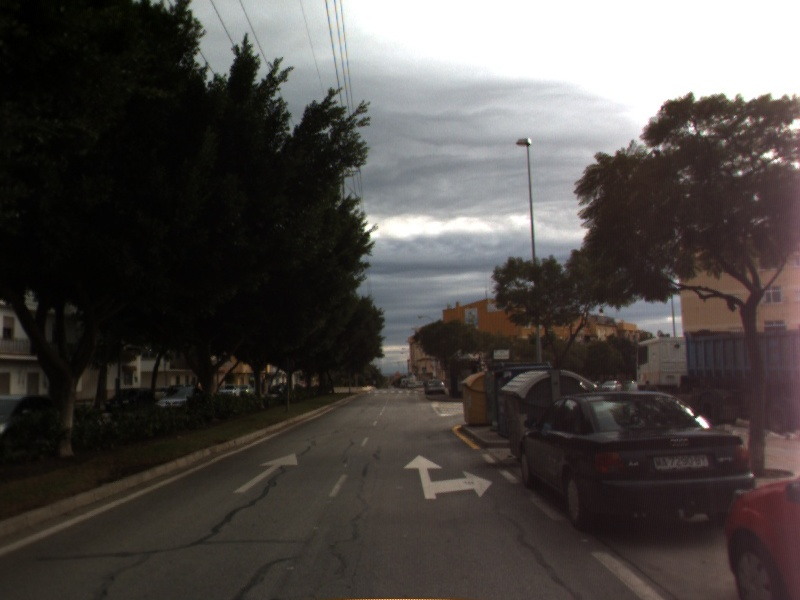STRAIGHT: (231, 451, 300, 495)
STRAIGHT_RIGHT: (401, 452, 495, 501)
